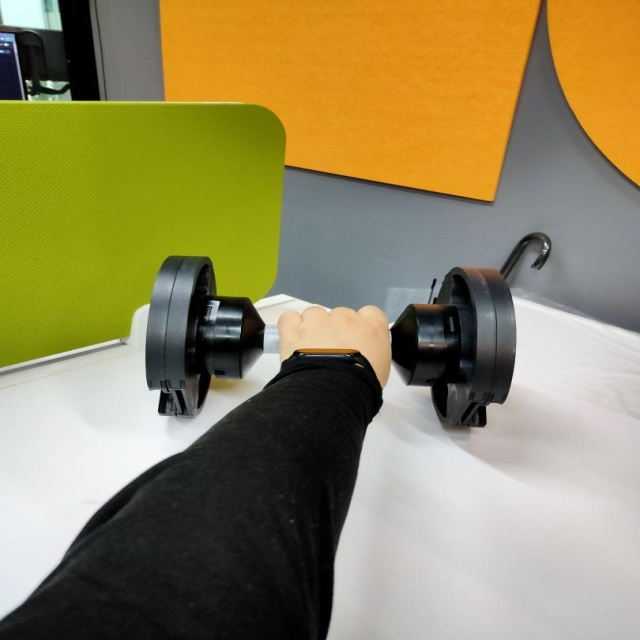03-6kg: (144, 255, 517, 428)
